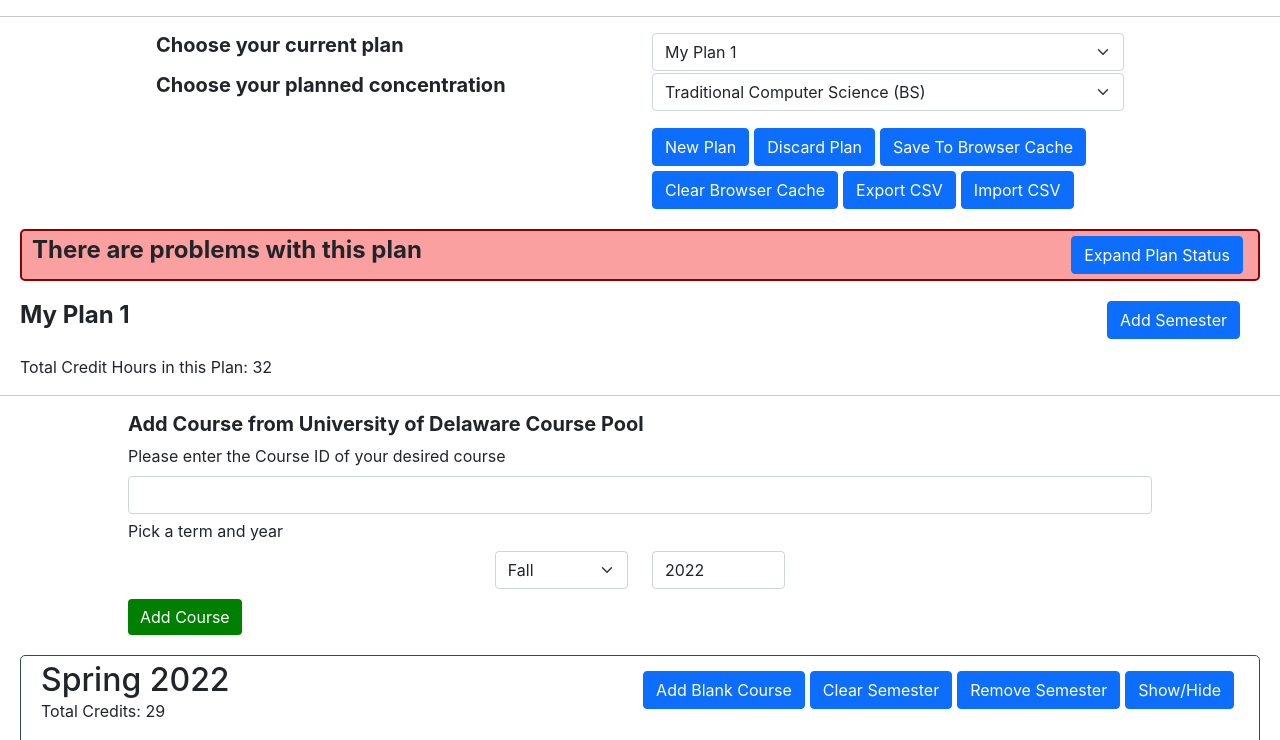
Scenario: Semester Tests › Can show/hide add semester window
The image size is (1280, 740).
Expected: the text "Pick a term and year" is shown once, [128, 519, 283, 543]
Click the button with test id "addSem-button".
click(1174, 320)  # box [1107, 301, 1240, 339]
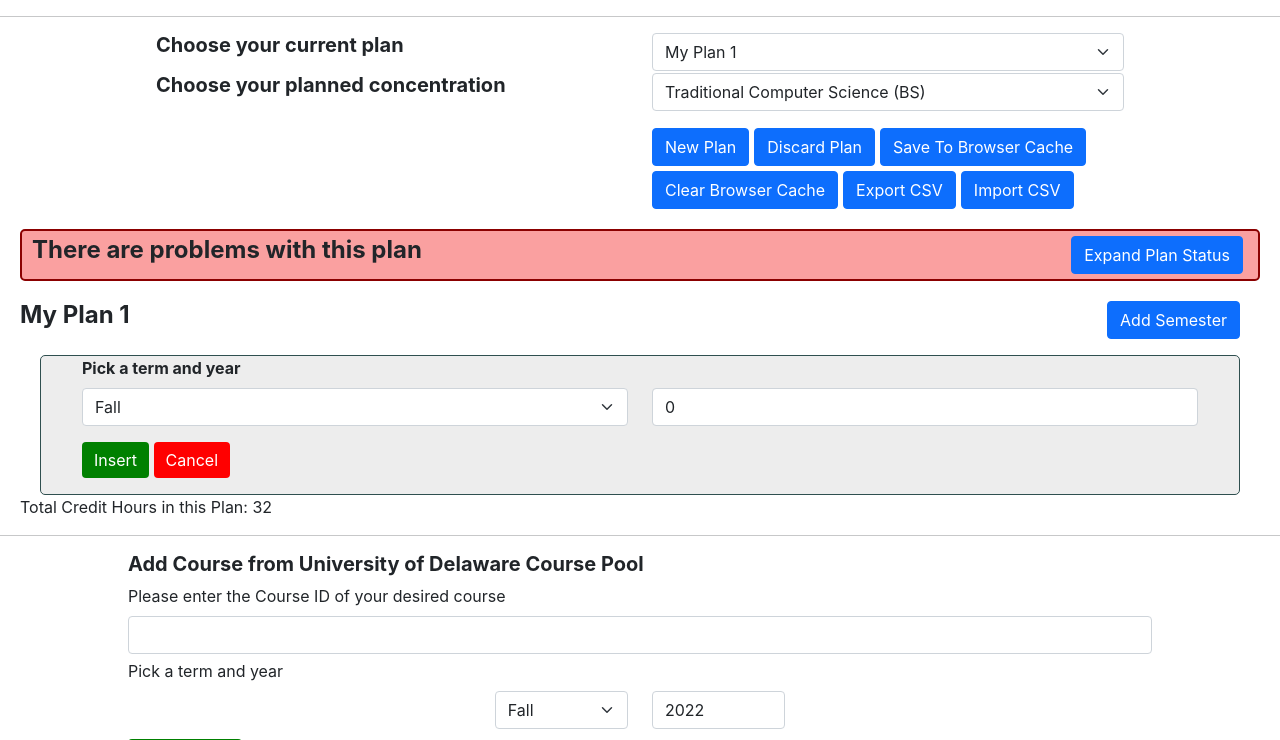
Expected: the text "Pick a term and year" is shown 2 times, [82, 358, 240, 378]; [128, 659, 283, 683]
Click the button with test id "cancelSem-button".
click(192, 460)  # box [154, 442, 230, 478]
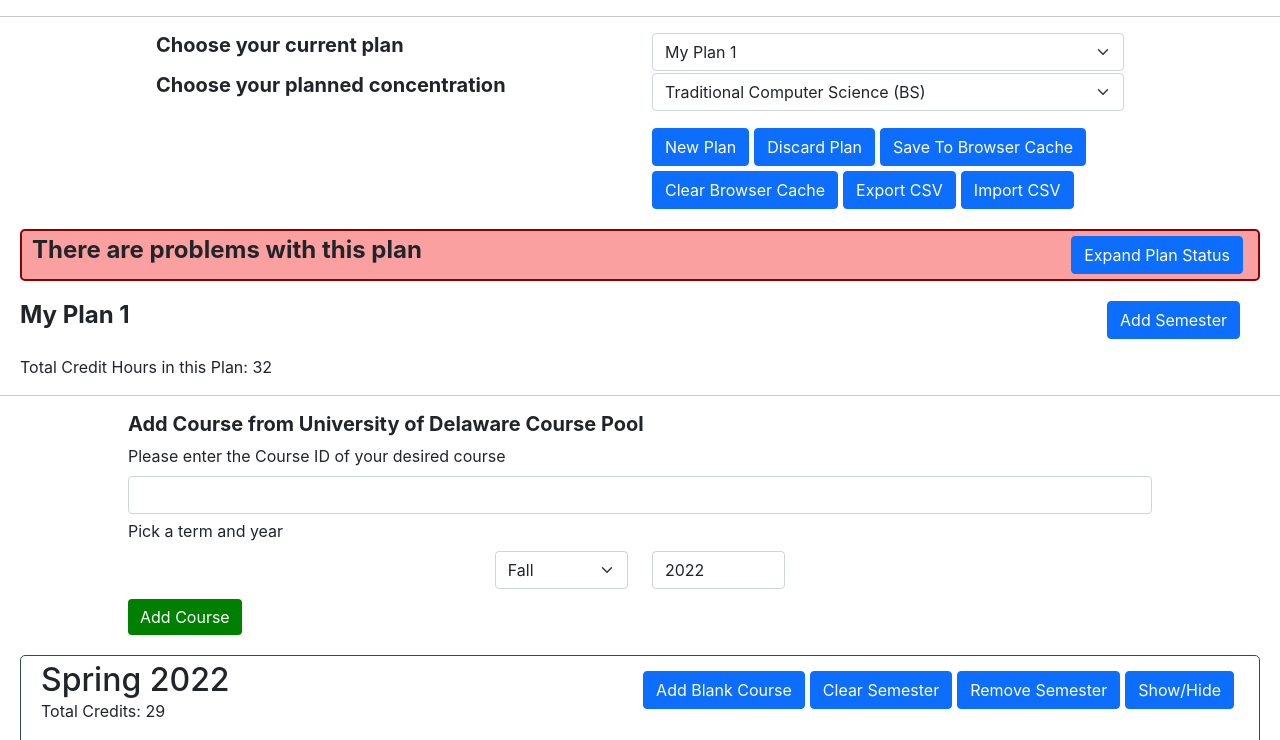
Expected: the text "Pick a term and year" is shown once, [128, 519, 283, 543]
